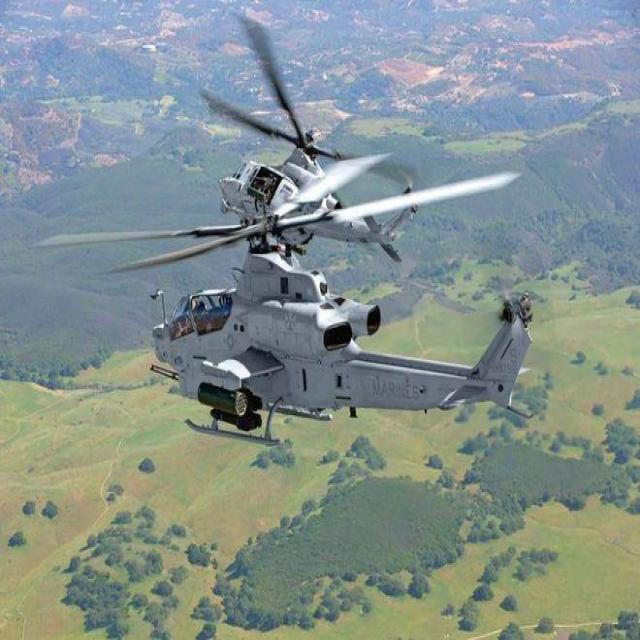MIL_HELO: (60, 133, 568, 462), (188, 19, 431, 266)
